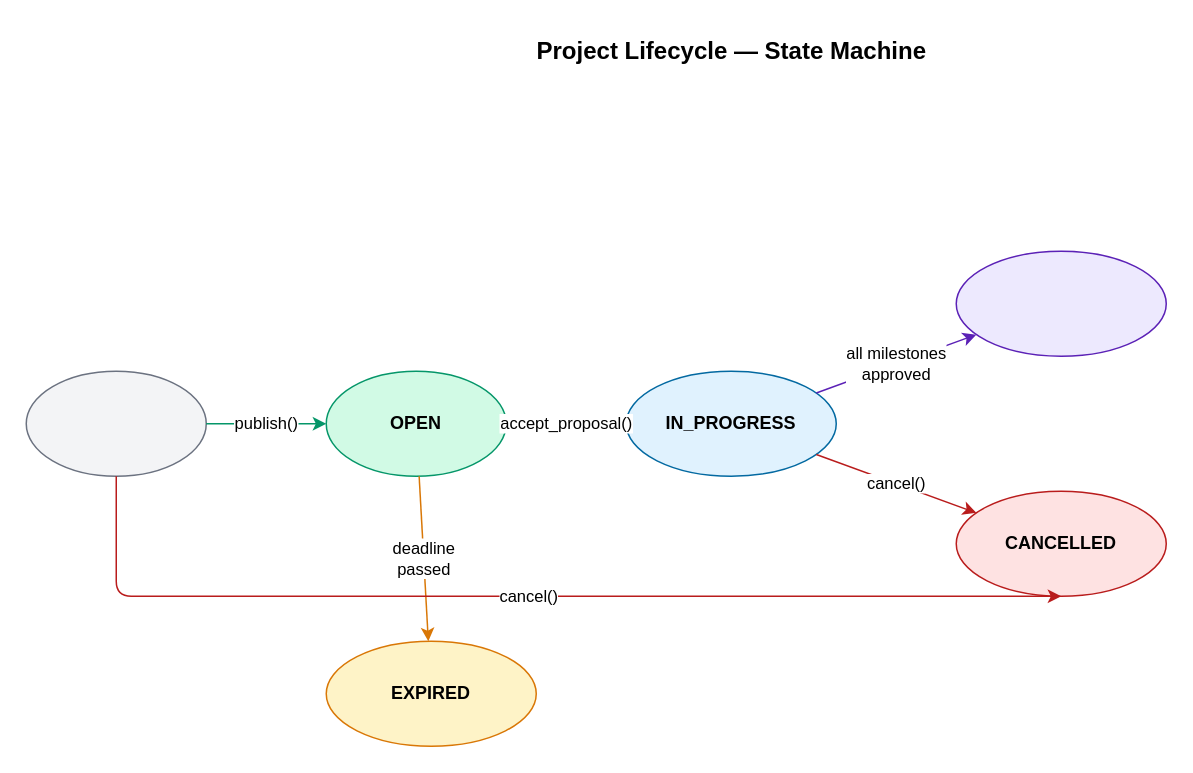
The diagram is 1193 pixels wide and 773 high, and some of its shapes have lost their labels. The shapes that lost their labels are listed below. From the top down, each one's box as (x1, y1, x2, y2) in pixels, then its label:
(955, 250, 1166, 356): COMPLETED
(25, 370, 206, 476): DRAFT
